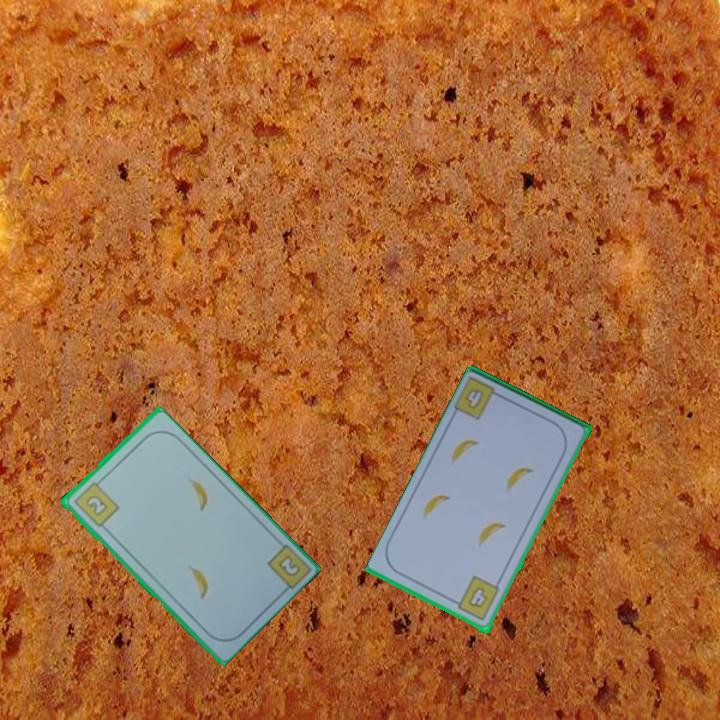2b: (69, 476, 121, 530), (274, 551, 303, 580)
4b: (452, 374, 507, 424), (450, 573, 503, 624)
